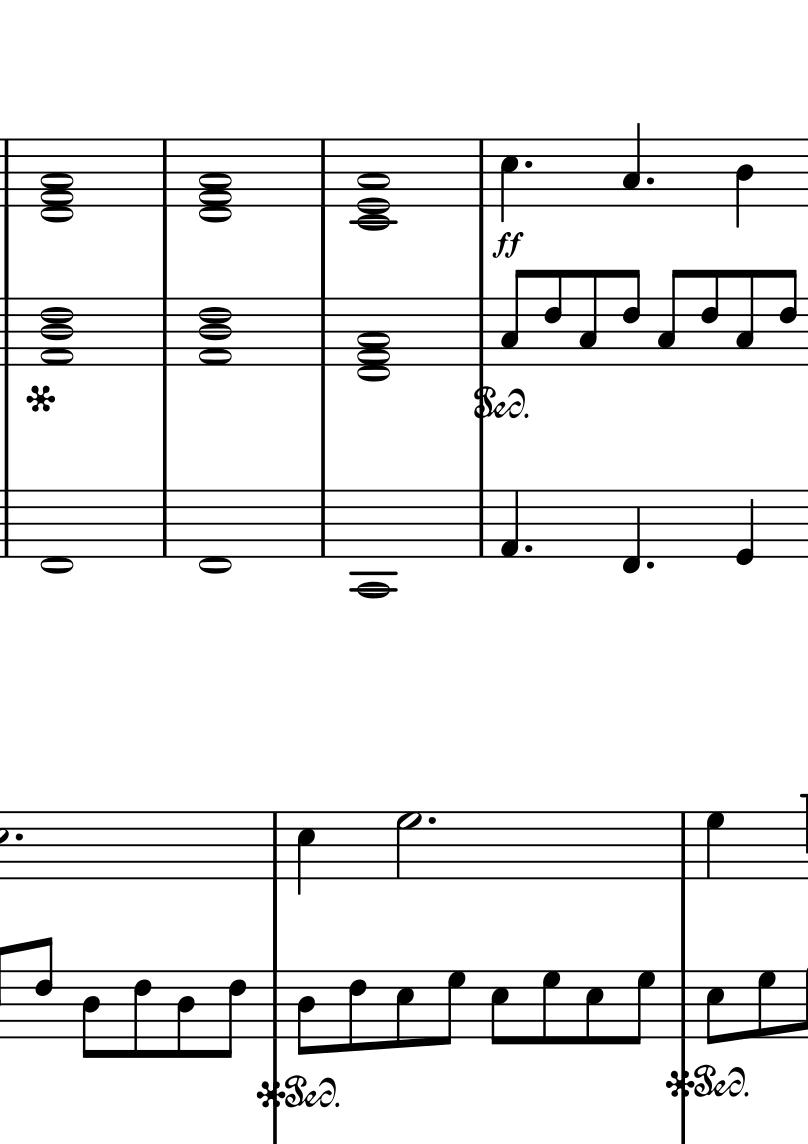1_-1: (198, 487, 235, 576), (40, 489, 76, 575)
1_-4: (354, 488, 394, 600)
1_th: (350, 137, 399, 231), (354, 296, 394, 388), (196, 137, 234, 225), (39, 136, 74, 224), (198, 293, 234, 370), (40, 296, 76, 366)
2_7: (395, 811, 424, 881)
4_-1: (620, 489, 641, 574)
4_0: (733, 488, 756, 568)
4_1: (499, 488, 520, 560)
4_3: (621, 122, 643, 208)
4_4: (734, 135, 755, 228)
4_5: (498, 136, 518, 223), (296, 810, 316, 895)
4_7: (705, 811, 727, 881)
8_3: (499, 268, 527, 368), (656, 268, 684, 368), (578, 268, 599, 367), (734, 269, 755, 368)
8_4: (174, 968, 195, 1059), (82, 968, 101, 1060), (297, 968, 315, 1058)
8_5: (704, 970, 726, 1046), (489, 970, 510, 1047), (395, 968, 414, 1050), (586, 969, 604, 1047)
8_6: (217, 969, 247, 1060), (541, 268, 564, 368), (33, 935, 54, 1041), (698, 268, 720, 368), (776, 267, 798, 366), (130, 969, 152, 1060), (620, 269, 640, 368), (348, 970, 368, 1053)
8_7: (624, 970, 655, 1046), (438, 969, 466, 1047), (540, 969, 562, 1046), (755, 969, 778, 1040)
Single_barline: (154, 298, 176, 365), (265, 812, 287, 878), (674, 812, 695, 878), (265, 970, 285, 1039), (473, 490, 492, 559), (314, 298, 333, 366), (674, 970, 693, 1038), (155, 490, 174, 557), (155, 139, 174, 206), (314, 140, 333, 207), (315, 491, 332, 557), (474, 140, 491, 206), (1, 298, 17, 366), (1, 490, 17, 557), (1, 138, 16, 207), (475, 297, 490, 366)
dot: (425, 812, 439, 828), (521, 157, 535, 173), (643, 558, 658, 572), (521, 540, 534, 556), (13, 830, 27, 844), (644, 174, 656, 188)
ff: (493, 229, 525, 260)
